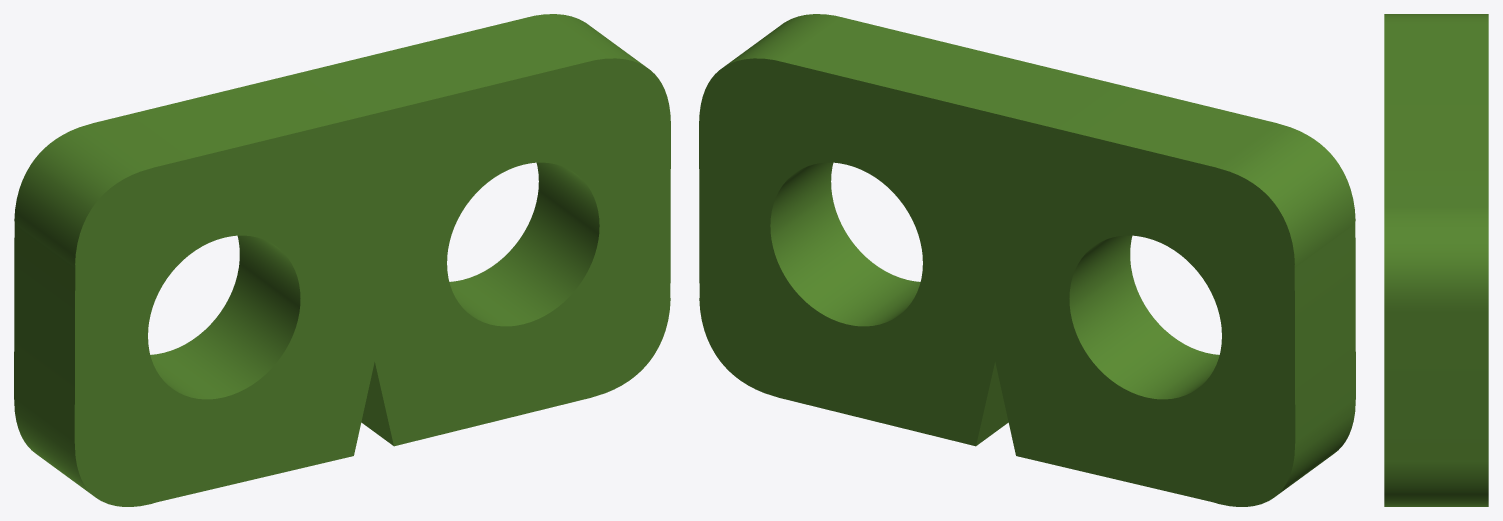
The model's file is gogglesGreen.dae.
3 renders of one model, left to right at view 1: azimuth 30°, elevation 25°; view 2: azimuth 150°, elevation 25°; view 3: azimuth 270°, elevation 25°, orthographic. The views are drawn at different scales.
Parts seen in each view (by area): view 1: VR_Goggles; view 2: VR_Goggles; view 3: VR_Goggles.
Part boxes in pixels (x1=…): VR_Goggles: x1=14, y1=14, x2=670, y2=506; VR_Goggles: x1=699, y1=14, x2=1355, y2=506; VR_Goggles: x1=1384, y1=14, x2=1488, y2=506.
Bounding box in the file's own units: 57.52 × 31.1 × 10.14.
